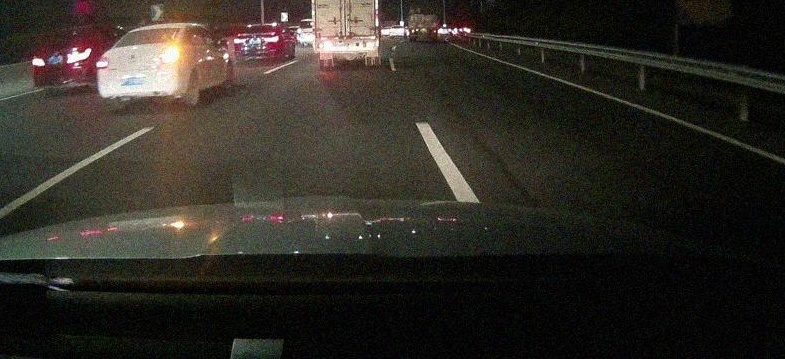L_light: (96, 59, 108, 68), (234, 38, 246, 44)
R_light: (157, 52, 177, 61), (264, 36, 279, 42)
T_light: (152, 28, 165, 31), (258, 25, 267, 27)
night-no: (234, 23, 279, 64)
night-right: (95, 22, 191, 114)
